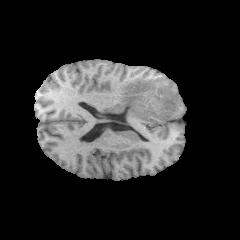glioma: (120, 78, 177, 121)
